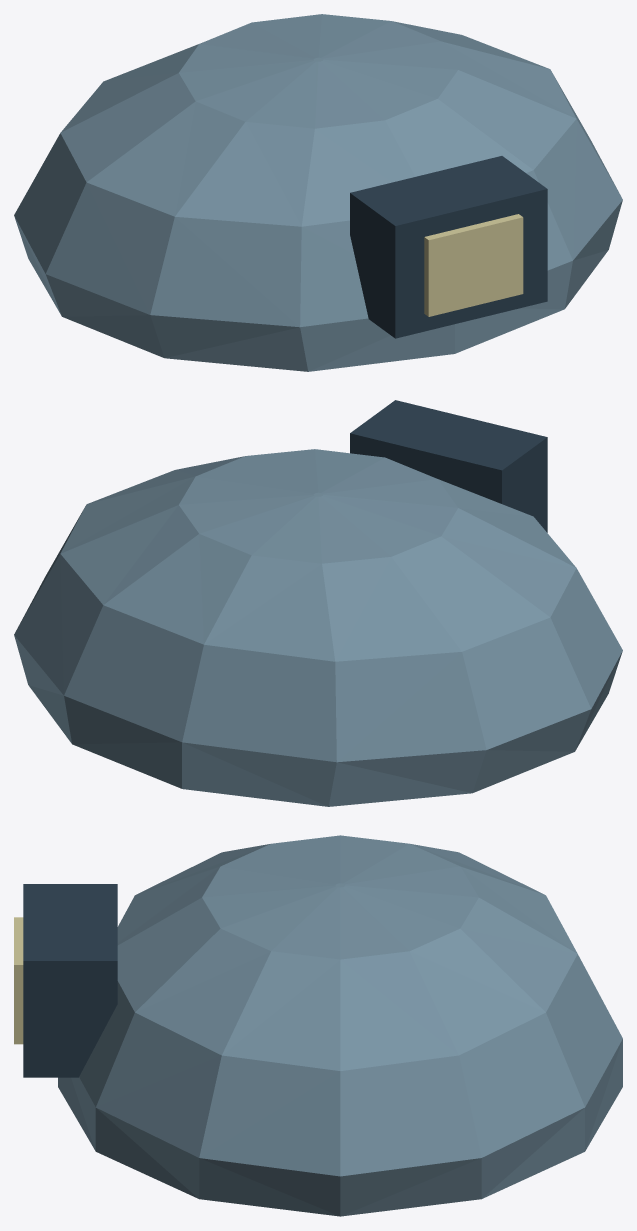
File: surveyhelm.glb
3 views of the same model, one above another, from view 1: azimuth 30°, elevation 25°; view 2: azimuth 150°, elevation 25°; view 3: azimuth 270°, elevation 25° (orthographic). The views are drawn at different scales.
Parts seen in each view (by area): view 1: Surveyor Helmet.002; view 2: Surveyor Helmet.002; view 3: Surveyor Helmet.002.
Boxes of the visible parts, bbox=[...] form: Surveyor Helmet.002: bbox=[14, 14, 622, 371]; Surveyor Helmet.002: bbox=[14, 400, 622, 806]; Surveyor Helmet.002: bbox=[14, 835, 622, 1216].
Size of the model in its own units: 0.6864 by 0.2337 by 0.6402.
